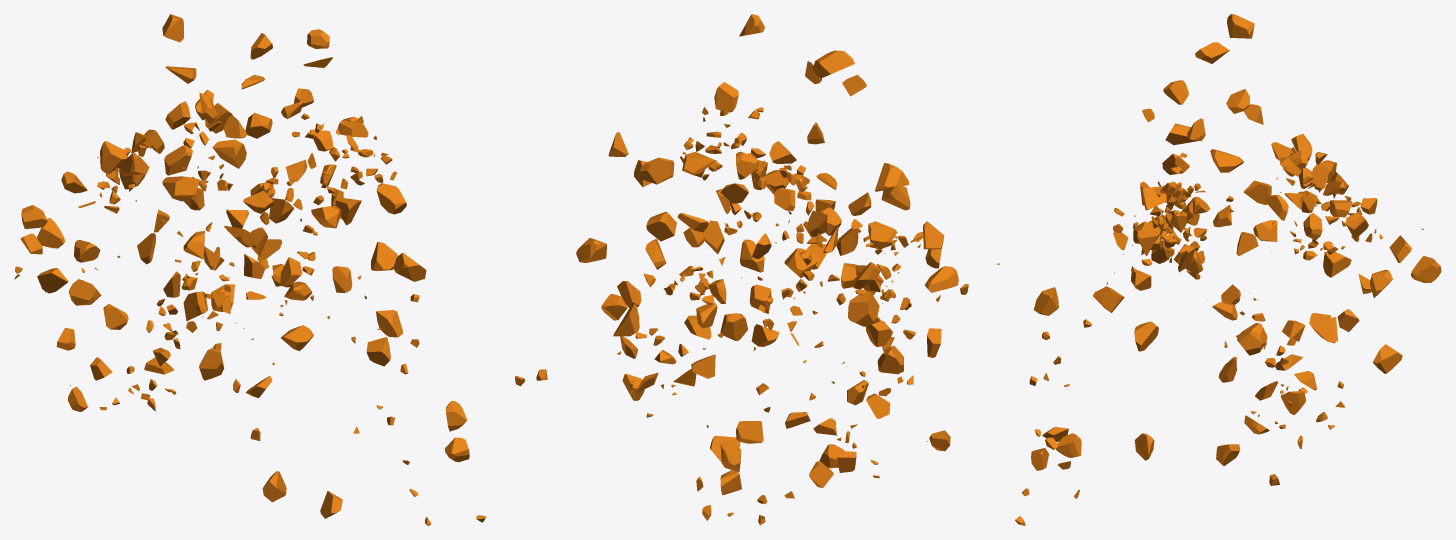
File: Explode_Cube.f0011.glb
3 views of the same model, side by side, from view 1: azimuth 30°, elevation 25°; view 2: azimuth 150°, elevation 25°; view 3: azimuth 270°, elevation 25° (orthographic). The views are drawn at different scales.
Parts seen in each view (by area): view 1: Cube.125_cell.081, Cube.125_cell.013, Cube.125_cell.085, Cube.125_cell.087, Cube.125_cell.004, Cube.125_cell.025; view 2: Cube.125_cell.033, Cube.125_cell.003, Cube.125_cell.093, Cube.125_cell.014, Cube.125_cell.075, Cube.125_cell.081, Cube.125_cell.041, Cube.125_cell.085, Cube.125_cell.070, Cube.125_cell.004, Cube.125_cell.008, Cube.125_cell.067 (+13 smaller); view 3: Cube.125_cell.085, Cube.125_cell.070, Cube.125_cell.003, Cube.125_cell.038, Cube.125_cell.026, Cube.125_cell.056, Cube.125_cell.020.
Boxes of the visible parts, x1,y1,x2,y2 form: Cube.125_cell.081: (162,176,199,201); Cube.125_cell.013: (212,139,246,168); Cube.125_cell.085: (376,183,406,214); Cube.125_cell.087: (100,141,126,173); Cube.125_cell.004: (68,279,101,305); Cube.125_cell.025: (164,145,192,175); Cube.125_cell.033: (848,291,879,326); Cube.125_cell.003: (813,50,854,78); Cube.125_cell.093: (639,157,674,184); Cube.125_cell.014: (646,211,676,241); Cube.125_cell.075: (924,266,958,292); Cube.125_cell.081: (875,163,908,191); Cube.125_cell.041: (720,313,747,340); Cube.125_cell.085: (576,238,606,262); Cube.125_cell.070: (736,421,763,443); Cube.125_cell.004: (877,346,903,374); Cube.125_cell.008: (714,82,738,112); Cube.125_cell.067: (868,221,897,249); Cube.125_cell.085: (1237,323,1267,355); Cube.125_cell.070: (1411,256,1441,282); Cube.125_cell.003: (1227,14,1254,38); Cube.125_cell.038: (1033,287,1058,315); Cube.125_cell.026: (1373,344,1402,373); Cube.125_cell.056: (1134,321,1158,351); Cube.125_cell.020: (1309,313,1333,342).
Bounding box in the file's own units: 6.43 × 7.17 × 6.77.
